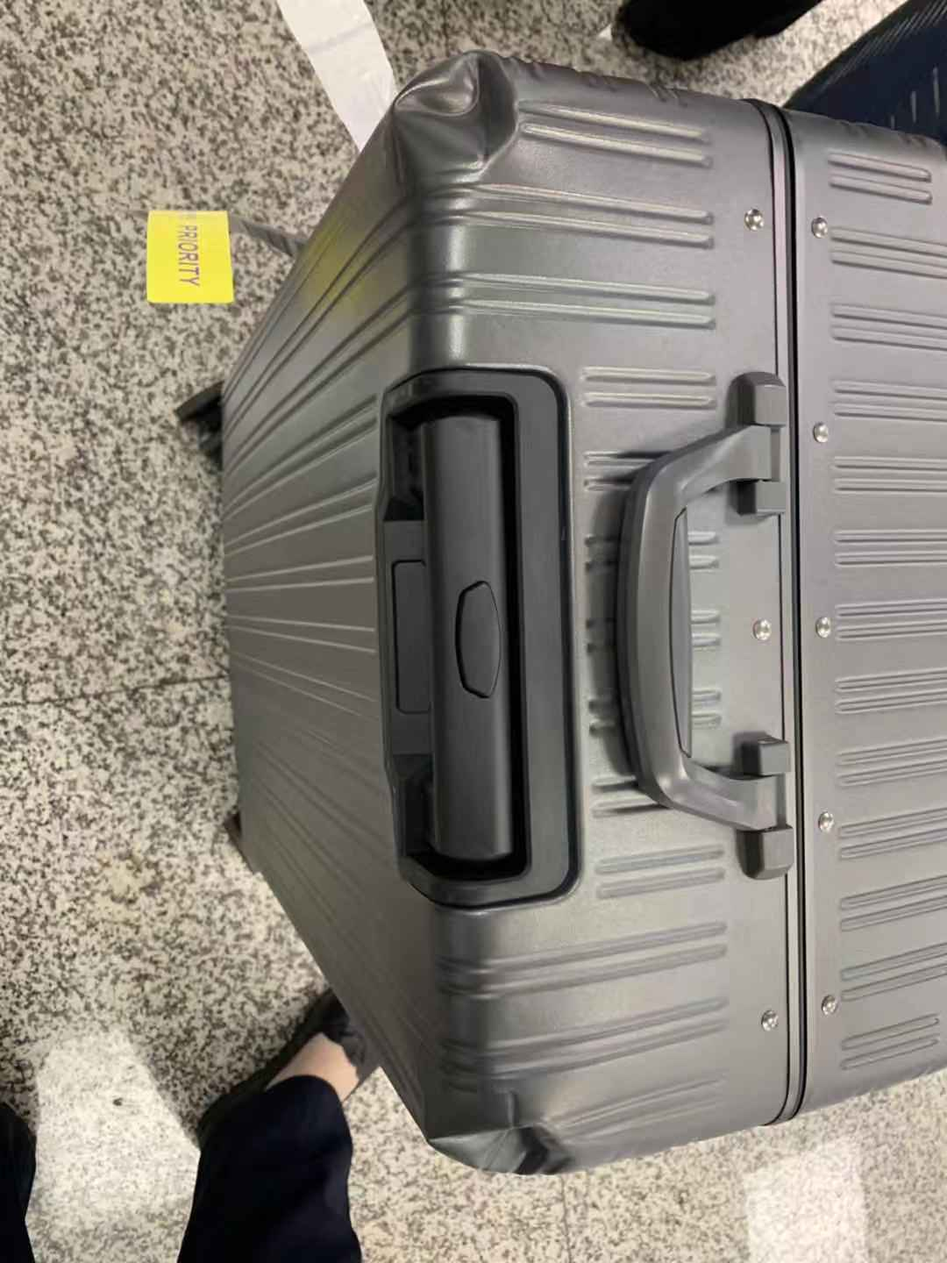rupture: (390, 48, 519, 171), (428, 1124, 574, 1175)
